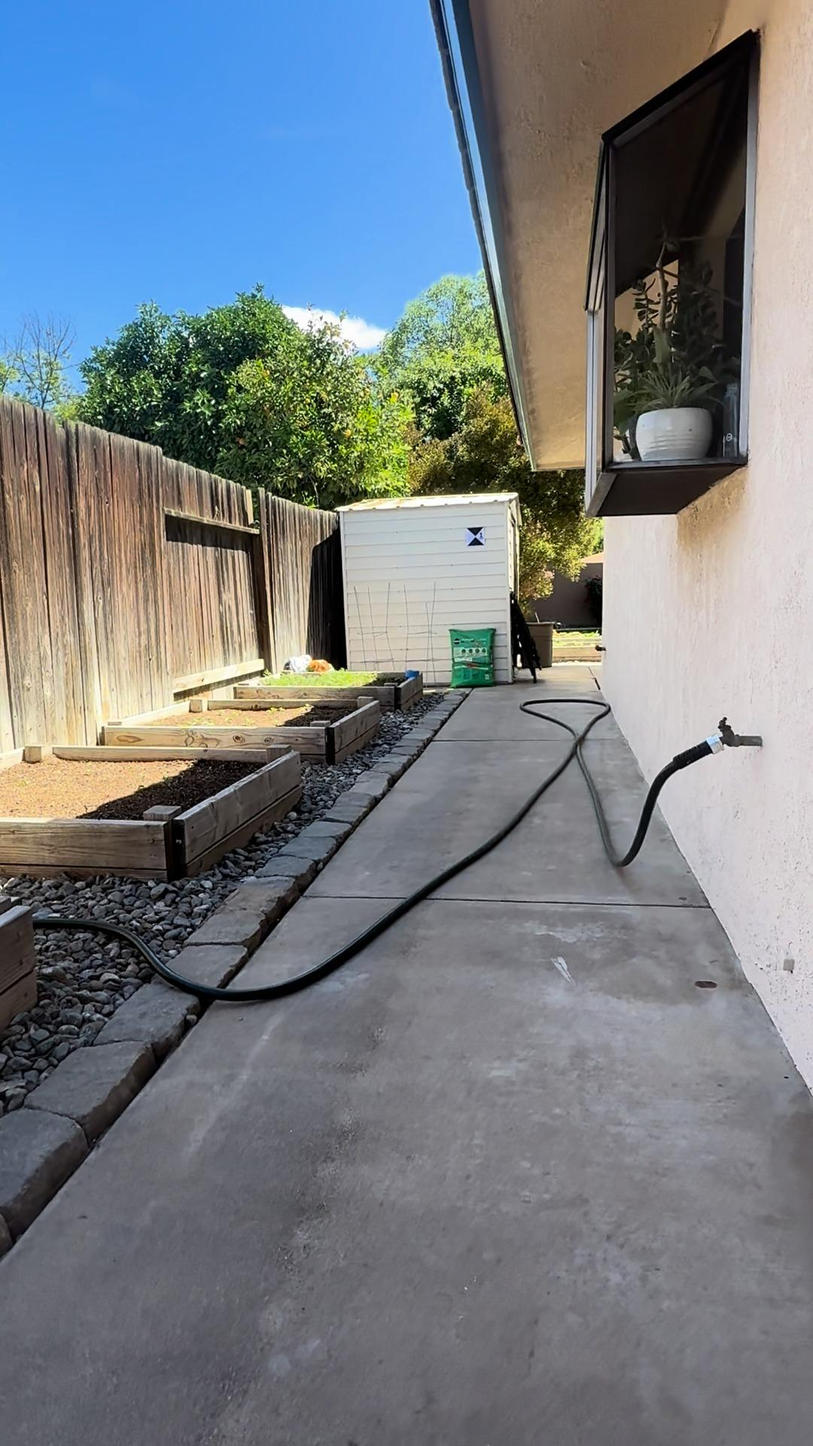target1: (464, 524, 487, 548)
